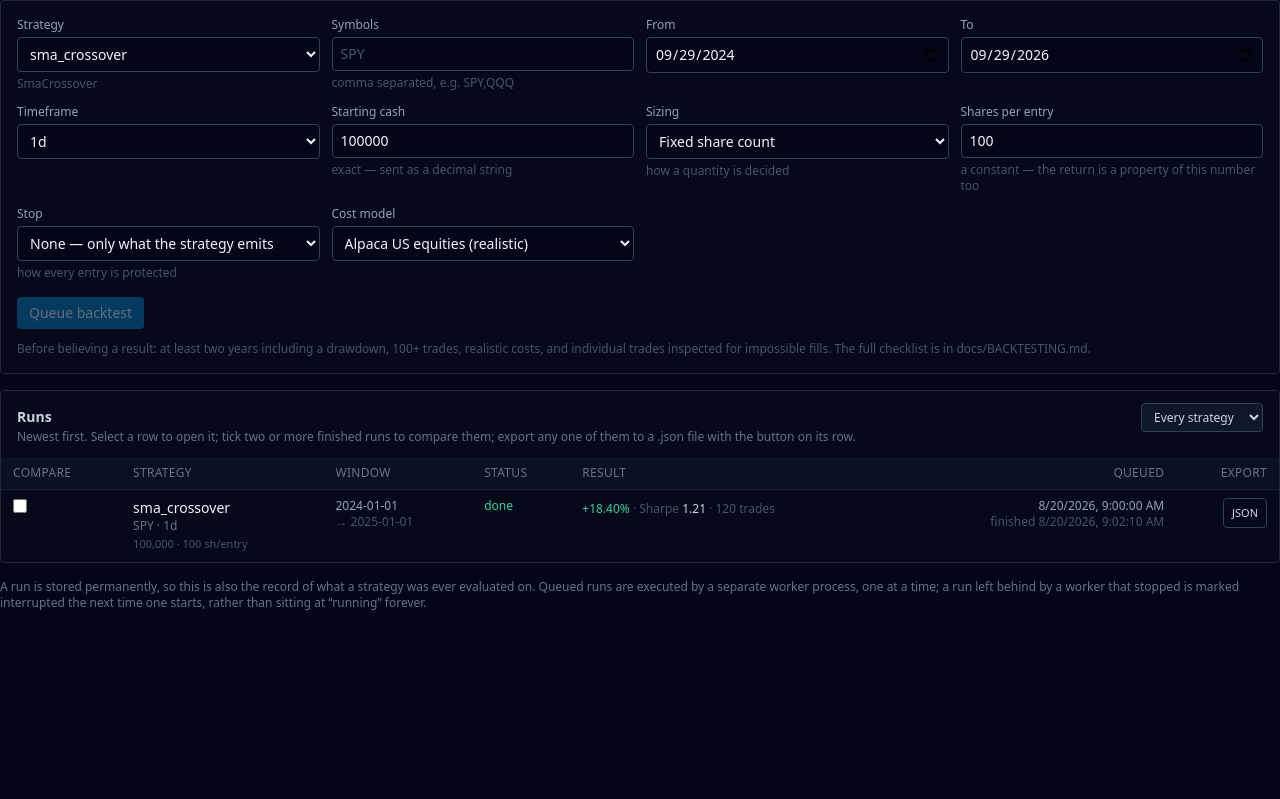
Scenario: what a run's return is actually made of › says an old run has no split rather than showing it as zero
Click the text "2024-01-01" at (398,526), box [324, 490, 472, 562]
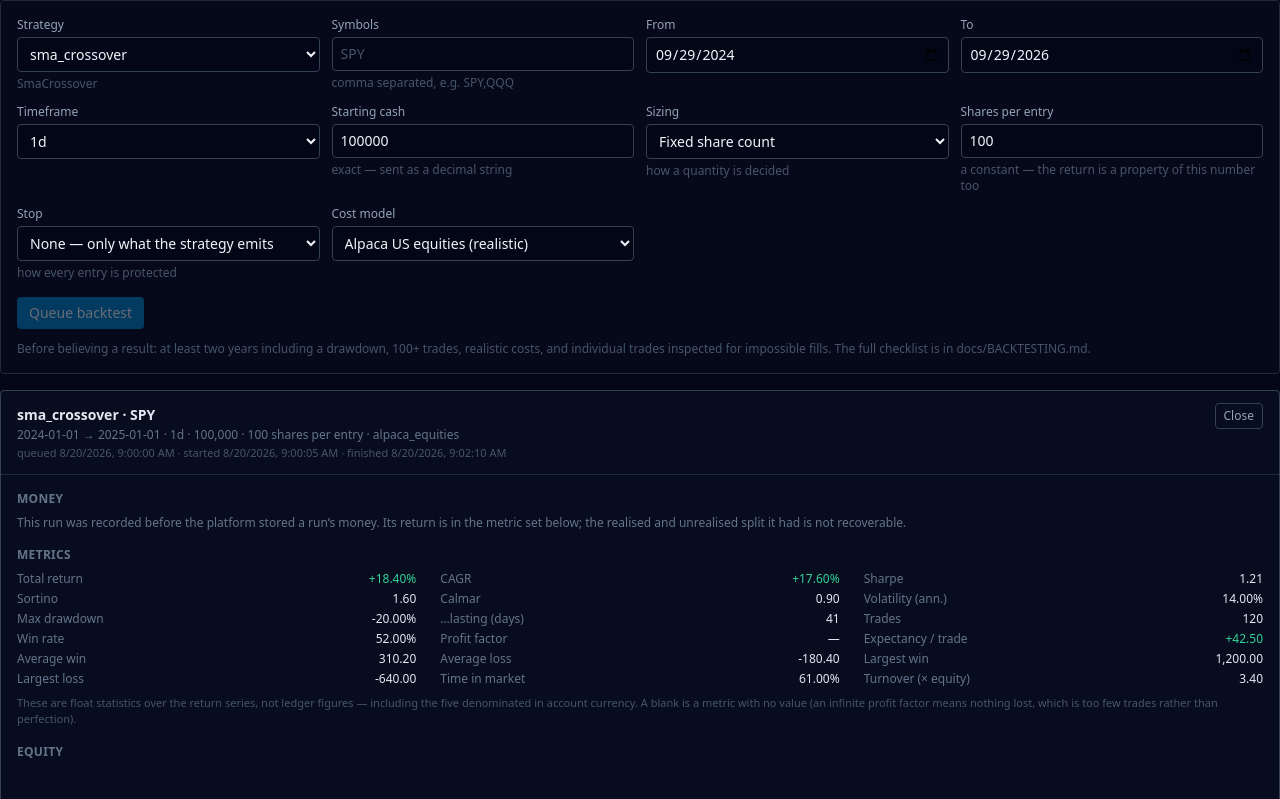
Expected: the text "before the platform stored a run" is shown, [17, 514, 906, 530]
